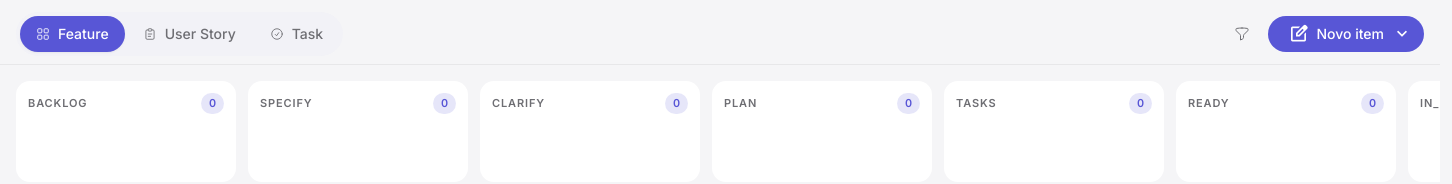
it: WorkItemBoard › shows User Story parent filter when Task tab filters panel is open
Click the radio button with test id "board-type-tab-TASK" at (296, 34), box x1=254 y1=16 x2=339 y2=52
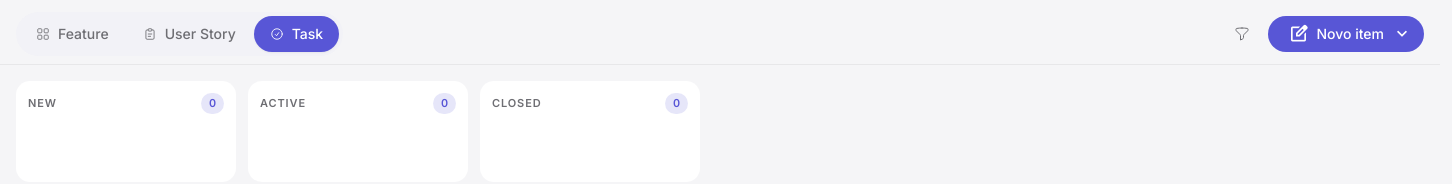
Click the button named "painel de filtros" at (1242, 34), box x1=1224 y1=16 x2=1260 y2=52
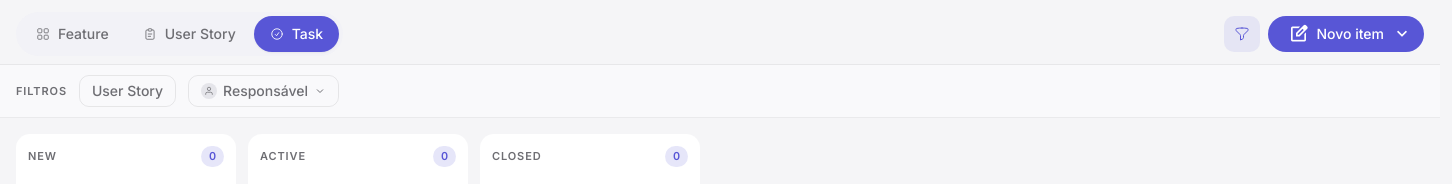
Result: the button with aria-label "filtrar por item pai" reads "User Story" at x1=79 y1=75 x2=176 y2=107
